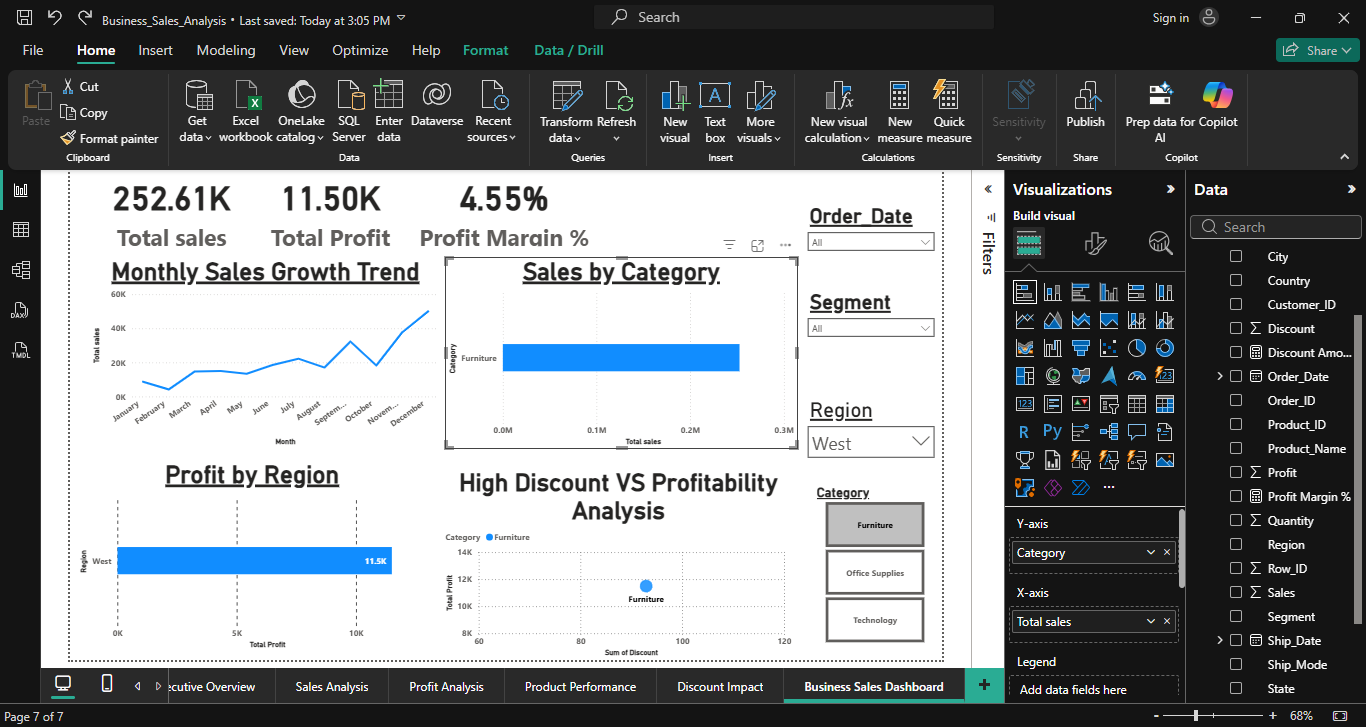

The dashboard page shown, as its layout file describes it:
{"tool":"powerbi","page":{"name":"Business Sales Dashboard","canvas":[1280,720],"ordinal":6},"visuals":[{"type":"card","fields":{"Values":["Sample_ Superstore.Total sales"]},"box":[27.9,0,242.4,117.6],"z":0},{"type":"card","fields":{"Values":["Sample_ Superstore.Total Profit"]},"box":[262,0,242,117],"z":1000},{"type":"card","fields":{"Values":["Sample_ Superstore.Profit Margin %"]},"box":[505.5,0,264.5,117],"z":2000},{"type":"lineChart","title":"Monthly Sales Growth Trend","fields":{"Y":["Sample_ Superstore.Total sales"],"Category":["Sample_ Superstore.Order_Date.Variation.Date Hierarchy.Month"]},"box":[27.9,127.8,518.7,282.1],"z":3000},{"type":"barChart","title":" Sales by Category","fields":{"Category":["Sample_ Superstore.Category"],"Y":["Sample_ Superstore.Total sales"]},"box":[551,127.8,518,282.1],"z":4000},{"type":"barChart","title":" Profit by Region","fields":{"Category":["Sample_ Superstore.Region"],"Y":["Sample_ Superstore.Total Profit"]},"box":[8.8,426.1,518,282],"z":5000},{"type":"scatterChart","title":"High Discount VS Profitability Analysis","fields":{"Y":["Sample_ Superstore.Total Profit"],"Size":["Sample_ Superstore.Total sales"],"X":["Sum(Sample_ Superstore.Discount)"],"Series":["Sample_ Superstore.Category"]},"box":[546.6,437.9,518.7,282.1],"z":6000},{"type":"slicer","fields":{"Values":["Sample_ Superstore.Region"]},"box":[1074.1,330.6,205.7,126.4],"z":7000},{"type":"slicer","fields":{"Values":["Sample_ Superstore.Category"]},"box":[1084.4,457,195.4,243.9],"z":8000},{"type":"slicer","fields":{"Values":["Sample_ Superstore.Segment"]},"box":[1074.1,171.9,205.7,111.7],"z":9000},{"type":"slicer","fields":{"Values":["Sample_ Superstore.Order_Date"]},"box":[1074.1,45.6,205.7,111.7],"z":10000}]}

Visuals, with their boxes on the page's 1280x720 design canvas (x1, y1, x2, y2). These are canvas units, not pixel positions in the 1366x727 screenshot, which may show the page scaled, cropped or inside an application window:
card - Sample_ Superstore.Total sales: [x1=28, y1=0, x2=270, y2=118]
card - Sample_ Superstore.Total Profit: [x1=262, y1=0, x2=504, y2=117]
card - Sample_ Superstore.Profit Margin %: [x1=506, y1=0, x2=770, y2=117]
"Monthly Sales Growth Trend" lineChart: [x1=28, y1=128, x2=547, y2=410]
" Sales by Category" barChart: [x1=551, y1=128, x2=1069, y2=410]
" Profit by Region" barChart: [x1=9, y1=426, x2=527, y2=708]
"High Discount VS Profitability Analysis" scatterChart: [x1=547, y1=438, x2=1065, y2=720]
slicer - Sample_ Superstore.Region: [x1=1074, y1=331, x2=1280, y2=457]
slicer - Sample_ Superstore.Category: [x1=1084, y1=457, x2=1280, y2=701]
slicer - Sample_ Superstore.Segment: [x1=1074, y1=172, x2=1280, y2=284]
slicer - Sample_ Superstore.Order_Date: [x1=1074, y1=46, x2=1280, y2=157]
